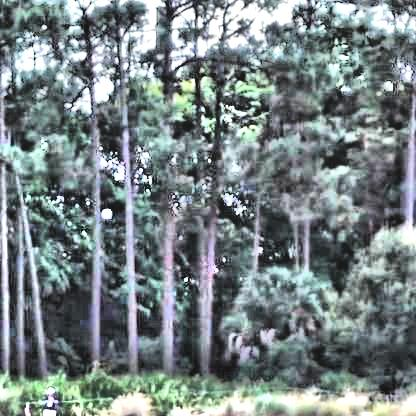golfball: (98, 206, 109, 216)
